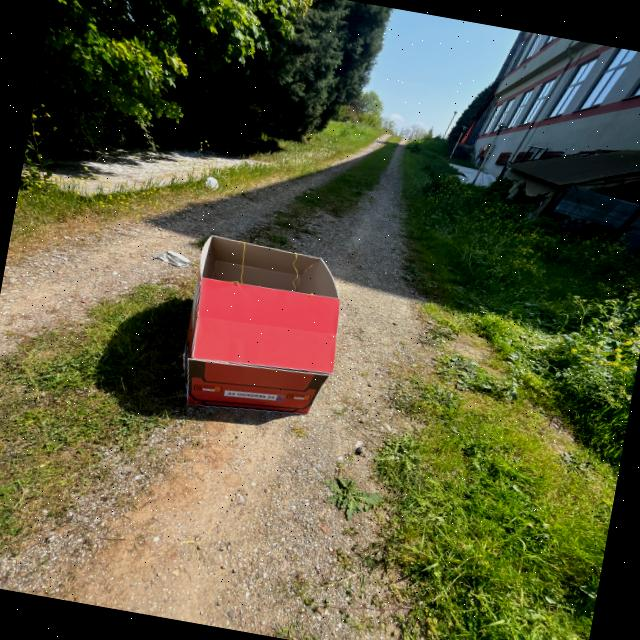red_car: (144, 223, 368, 443)
